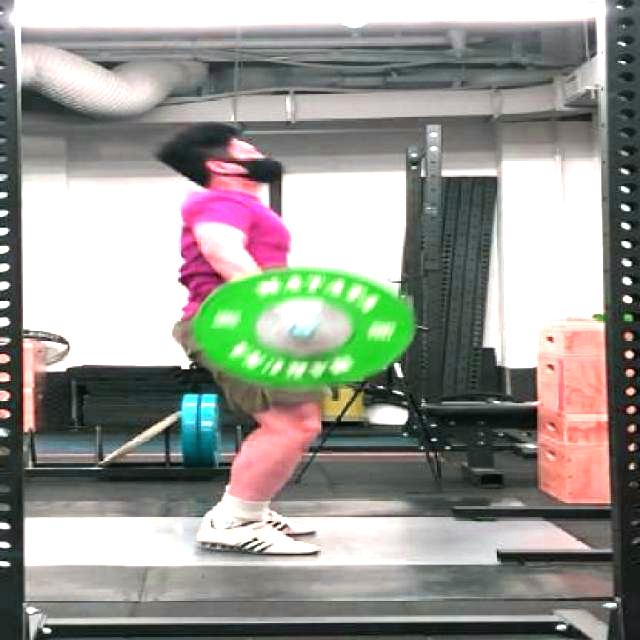barbell: (181, 261, 422, 399)
